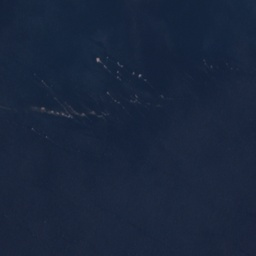Marine Debris: (31, 107, 110, 119), (105, 91, 124, 108), (131, 71, 147, 83), (129, 93, 142, 105), (203, 59, 214, 69), (95, 57, 102, 63)
